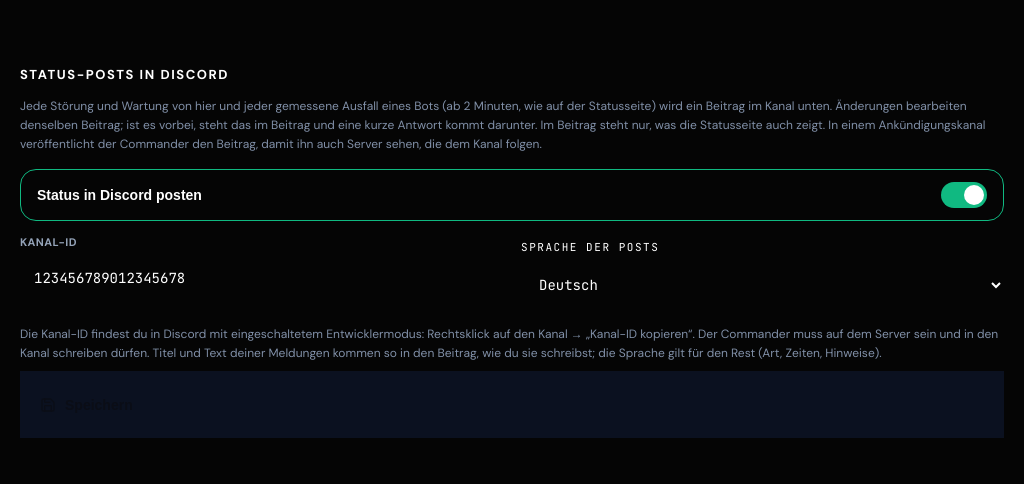
Scenario: status posts in the owner console › a removed channel ID switches the posts off
Clear the field with test id "status-posts-channel" at [262, 278], box left=20, top=255, right=503, bottom=301
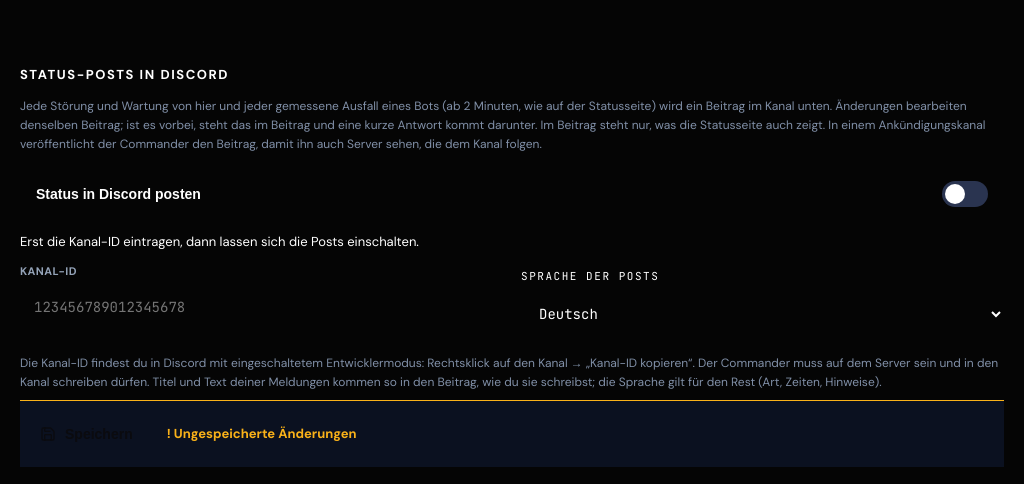
Expected: the text "Erst die Kanal-ID eintragen, dann lassen sich die Posts einschalten." is shown, left=20, top=233, right=419, bottom=250
